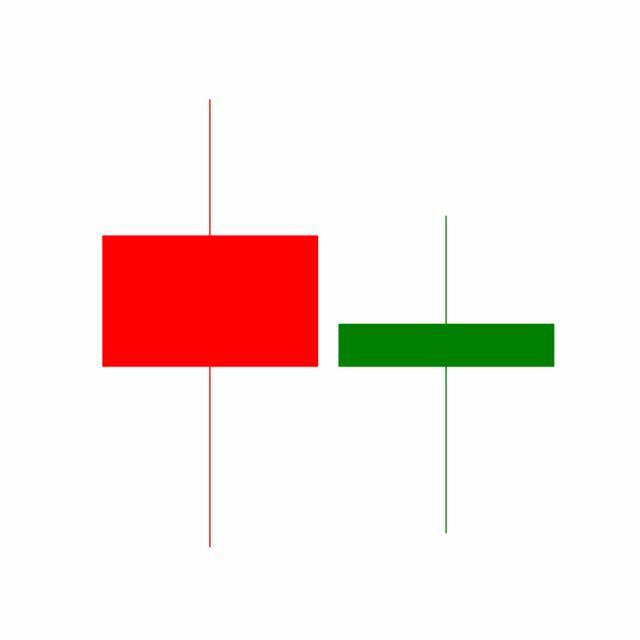Spinning Top: (328, 213, 566, 538)
